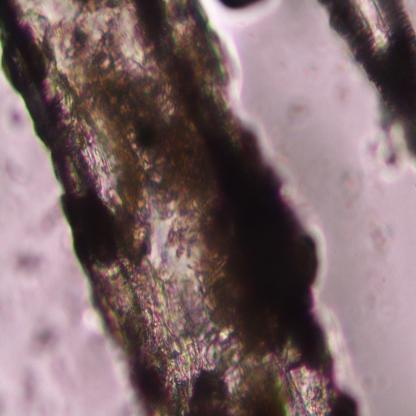Background material: (369, 116, 416, 180), (4, 240, 49, 282), (26, 318, 64, 364), (2, 95, 28, 136), (20, 372, 38, 408), (338, 391, 362, 416), (343, 171, 361, 204), (368, 225, 387, 256), (219, 0, 260, 14)
Diatom: (323, 0, 416, 121)
Microfibre: (1, 0, 343, 416)
